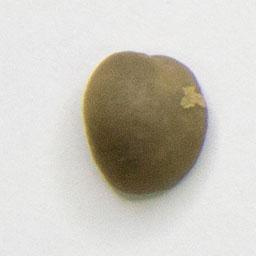premium: (79, 45, 213, 197)
